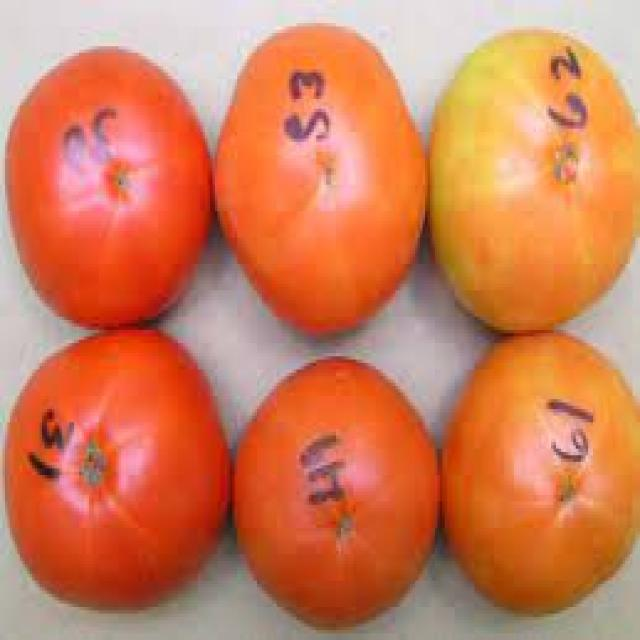Fresh_tomato: (220, 37, 424, 336), (11, 342, 224, 604), (232, 356, 443, 620), (444, 53, 640, 332), (442, 349, 640, 614), (13, 58, 197, 322)
